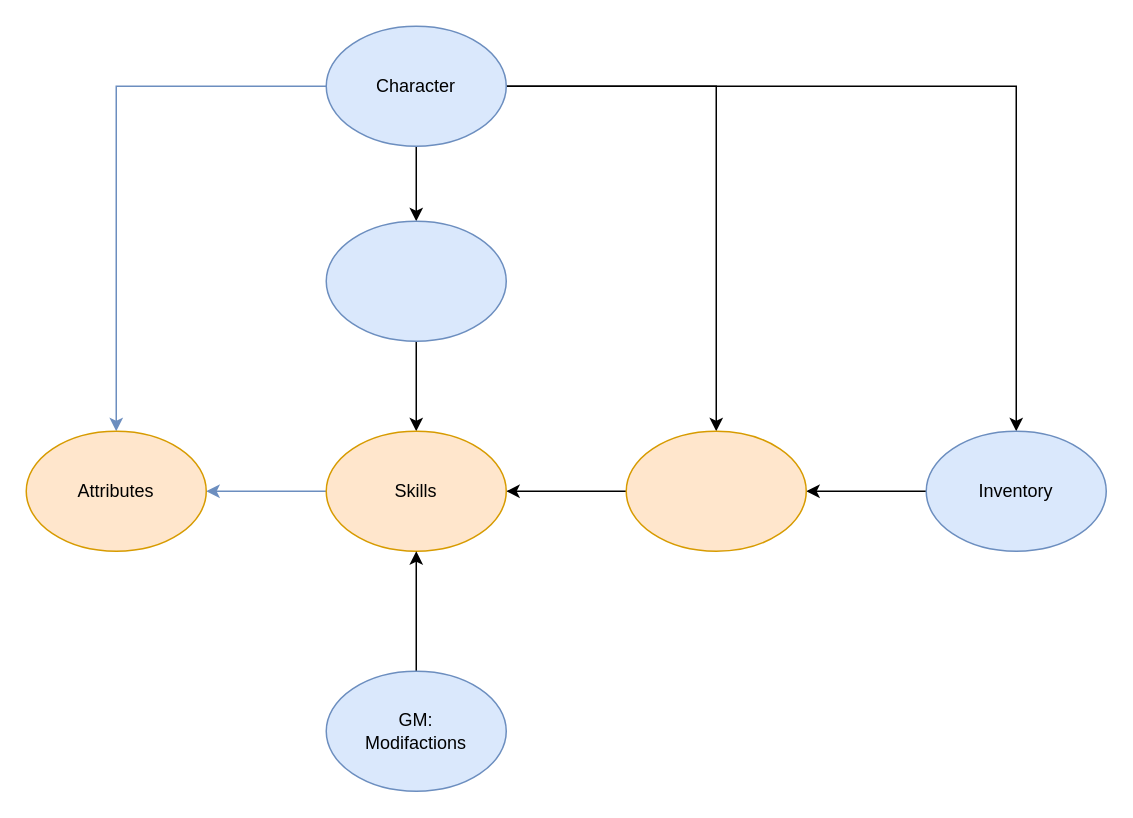
This 1133x818 diagram has some shape labels left out. Each missing label, with the centre of its shape:
"Actions" goes at point (415, 280).
"BodyStats" goes at point (715, 490).
